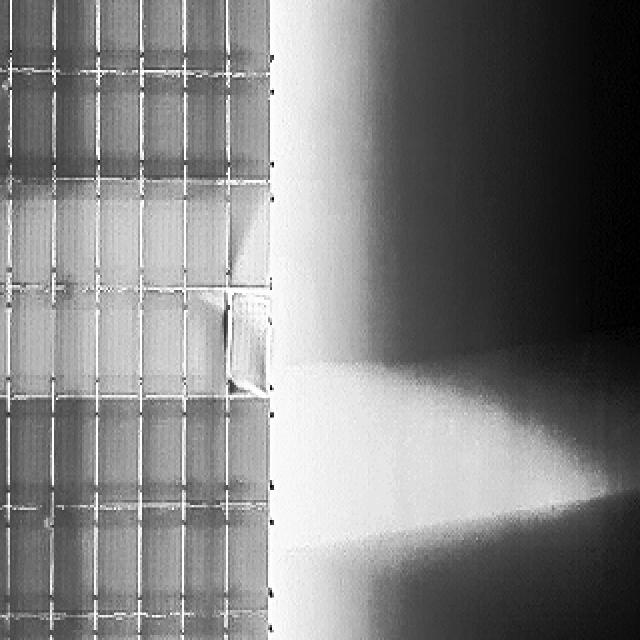PV-modules: (10, 401, 60, 513), (92, 401, 138, 512), (10, 288, 56, 399), (49, 508, 96, 616), (92, 290, 138, 400), (224, 399, 269, 510), (93, 178, 138, 289), (12, 70, 57, 180), (225, 72, 270, 182), (137, 506, 181, 618), (52, 401, 97, 510), (51, 290, 96, 399), (11, 180, 56, 288), (185, 290, 230, 398), (93, 71, 138, 179), (225, 180, 270, 288), (6, 509, 51, 617), (96, 510, 141, 618), (55, 179, 99, 289), (139, 180, 183, 289), (139, 71, 183, 180), (140, 290, 184, 399), (186, 400, 229, 510), (229, 506, 272, 616), (185, 502, 227, 614), (185, 182, 229, 288), (138, 396, 181, 504), (56, 70, 98, 178), (188, 71, 230, 177), (231, 292, 272, 396), (92, 0, 138, 78), (228, 0, 272, 78), (8, 0, 54, 70), (184, 0, 228, 72), (54, 0, 98, 70), (138, 0, 180, 72), (136, 618, 230, 639), (0, 178, 12, 288), (226, 613, 273, 640), (180, 616, 227, 640), (0, 68, 10, 178), (0, 288, 10, 398), (0, 508, 10, 618), (48, 618, 99, 639), (95, 617, 142, 639), (134, 618, 182, 639), (8, 618, 54, 639), (0, 0, 6, 75), (0, 403, 4, 515), (0, 618, 10, 638)
